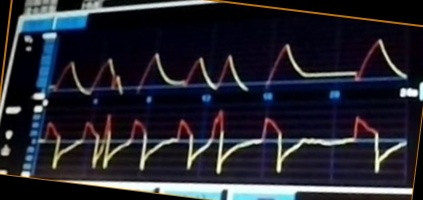Double_Triggering Flow: (45, 107, 388, 177)
Double_Triggering Volume: (57, 31, 390, 96)
